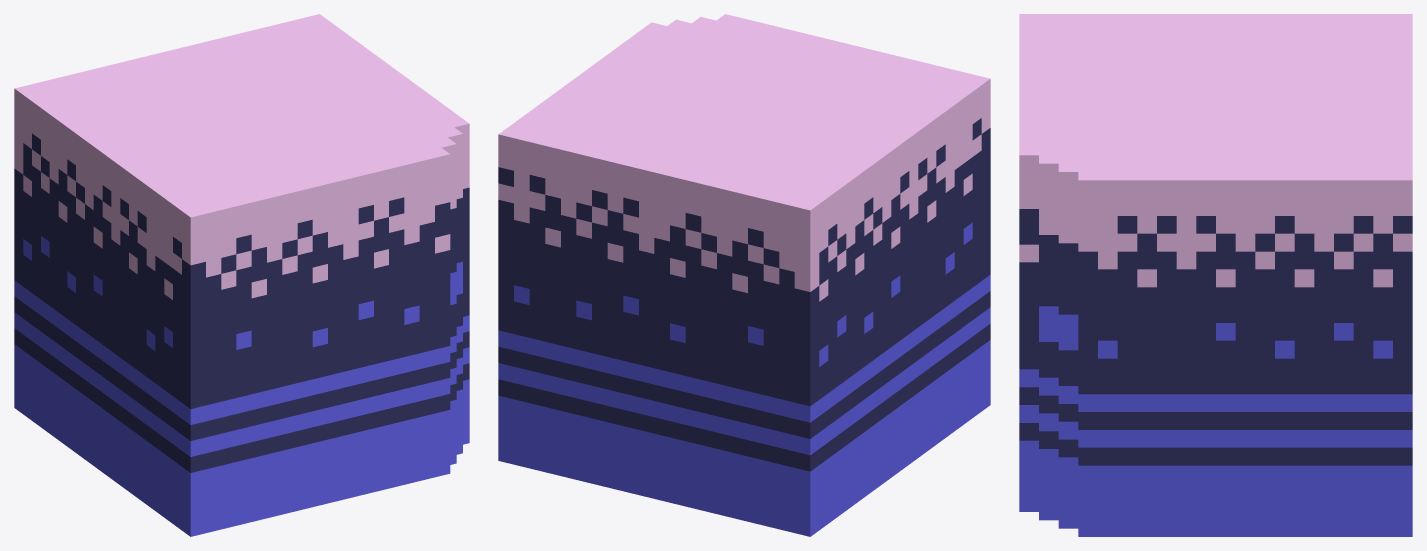
Rendered from cesped cerezo esquina.obj.
3 renders of one model, left to right at view 1: azimuth 30°, elevation 25°; view 2: azimuth 150°, elevation 25°; view 3: azimuth 270°, elevation 25°, orthographic. The views are drawn at different scales.
Size of the model in its own units: 2 by 2 by 2.
1 material, 1 textured.
